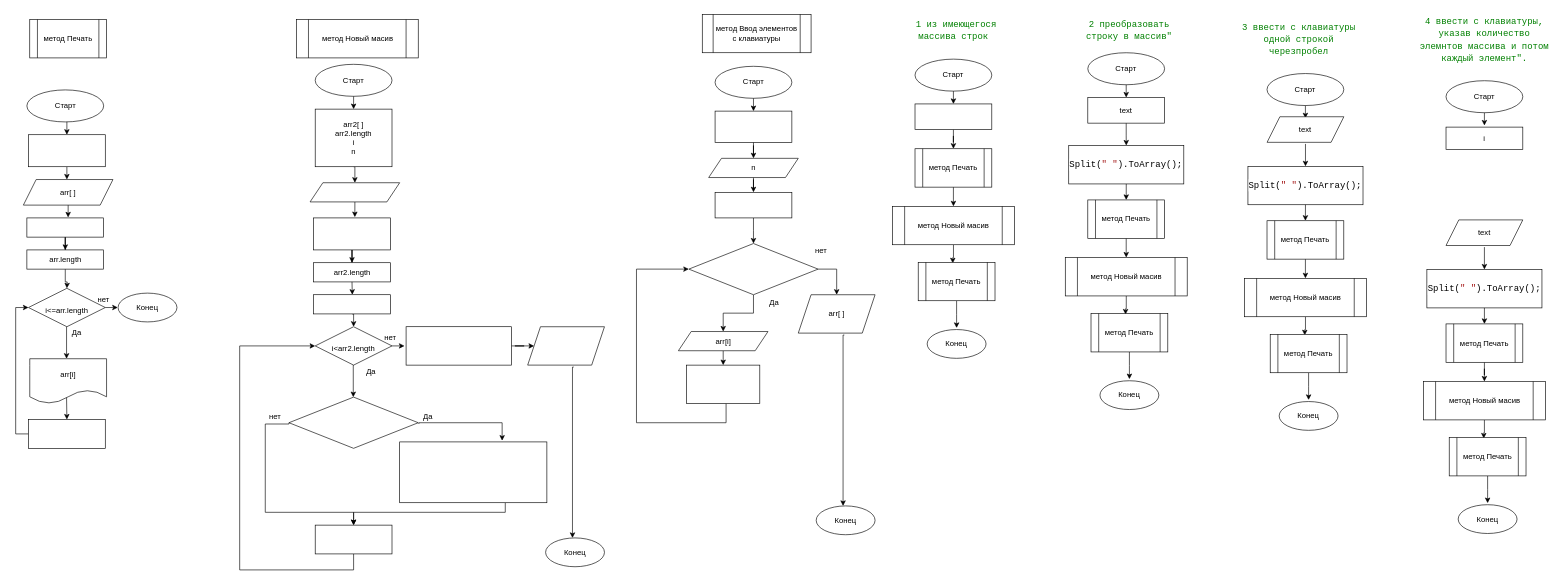
The diagram is 1563 pixels wide and 586 high, and some of its shapes have lost their labels. Each missing label, with the centre of its shape:
arr2: [953,116]
arr2[ ]: [354,192]
arr2[i] lenght<=3: [353,422]
arr3 .Resize( n > n+ 1 ); arr3[n- 1 ] = arr2[i]; n++: [473,472]
arr3.Resize(n > n- 1 );: [458,345]
arr3[ ]: [565,345]
arr[ ] i arr.length: [66,150]
arr[ ] n i: [753,126]
arr[i] i++: [723,384]
i = 0: [753,205]
i = 0 n = 1: [351,233]
i++: [353,539]
i+=i: [66,433]
i=0: [65,227]
n< i: [753,269]
new arr3[n]: [351,304]
